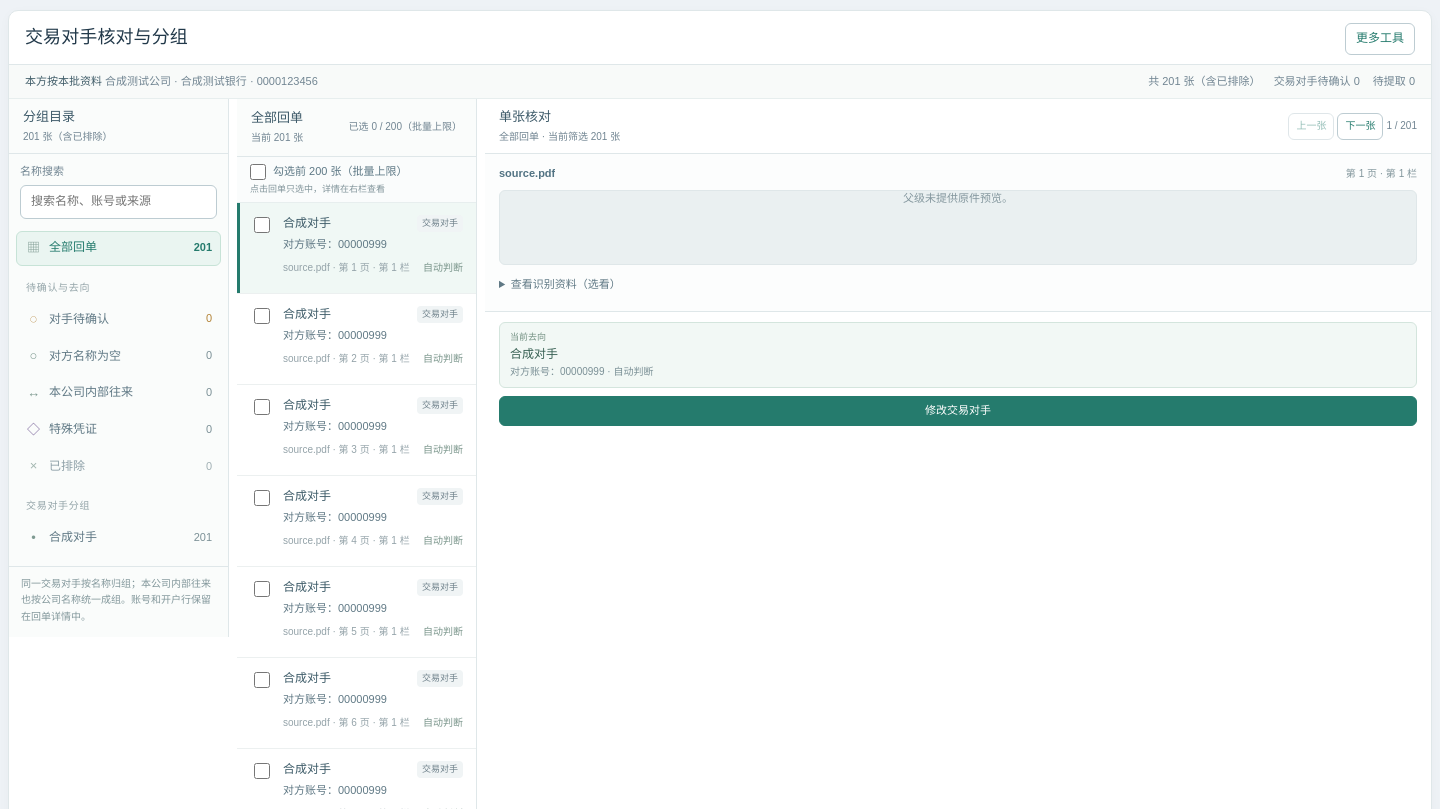
Scenario: ReceiptGroupingPanel › 批量选择严格限制为 200 张，并保留每个片段的来源信息
This screenshot has width=1440, height=809.
Step 1. Click the checkbox labelled "勾选前 200 张（批量上限）" → (258, 172), box [250,164,266,180]
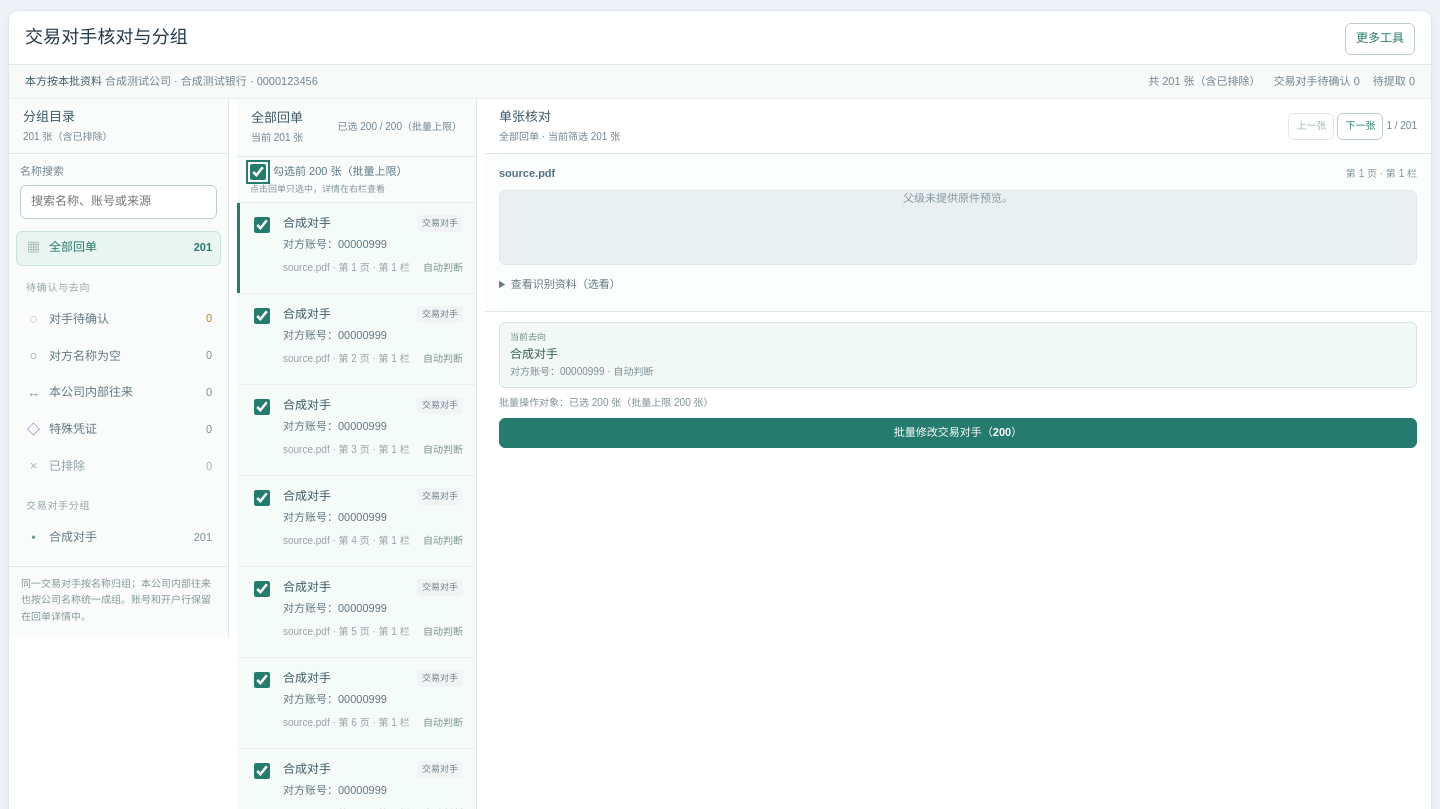
Expected: the text "source.pdf · 第 1 页 · 第 1 栏 自动判断" is shown, [283,261,463,276]
Now the text "已选 200 / 200（批量上限）" is shown, box [338,120,462,135]
